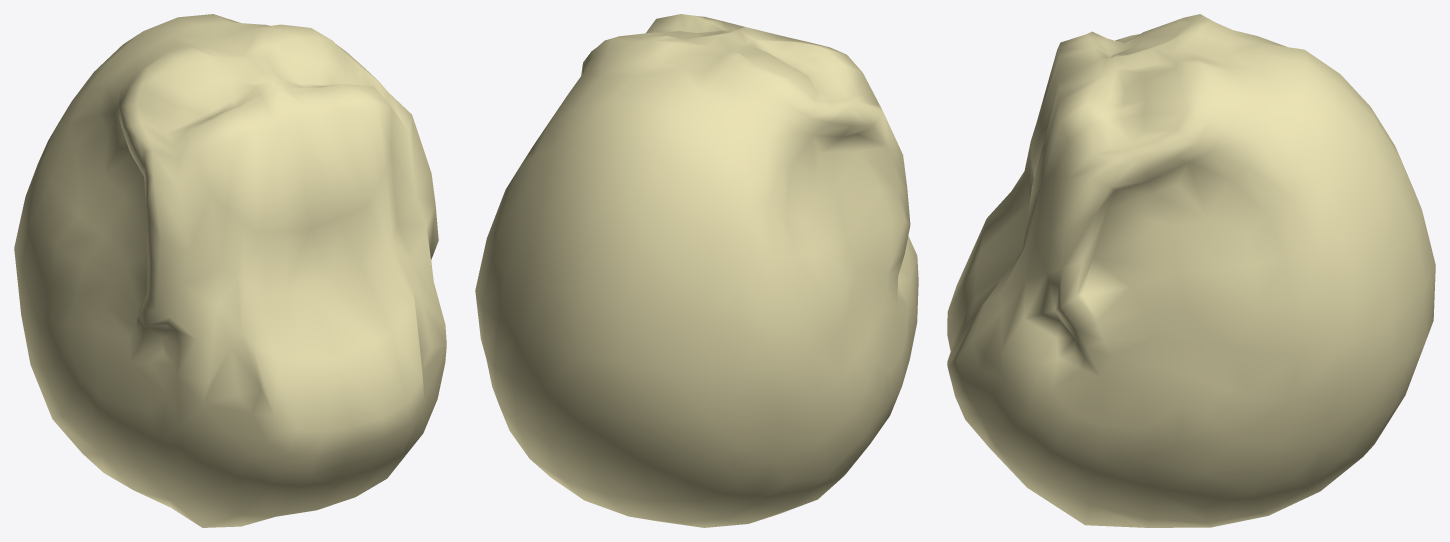
The model's file is Skull Craneum.fbx.
3 renders of one model, left to right at view 1: azimuth 30°, elevation 25°; view 2: azimuth 150°, elevation 25°; view 3: azimuth 270°, elevation 25°, orthographic. The views are drawn at different scales.
Visible parts, largest first — view 1: Skull Craneum - MAVG; view 2: Skull Craneum - MAVG; view 3: Skull Craneum - MAVG.
Part boxes in pixels (left/top/right/bottom): Skull Craneum - MAVG: left=14, top=14, right=446, bottom=527; Skull Craneum - MAVG: left=475, top=14, right=918, bottom=527; Skull Craneum - MAVG: left=947, top=14, right=1435, bottom=527.
Bounding box in the file's own units: 44.55 × 55.46 × 53.96.
